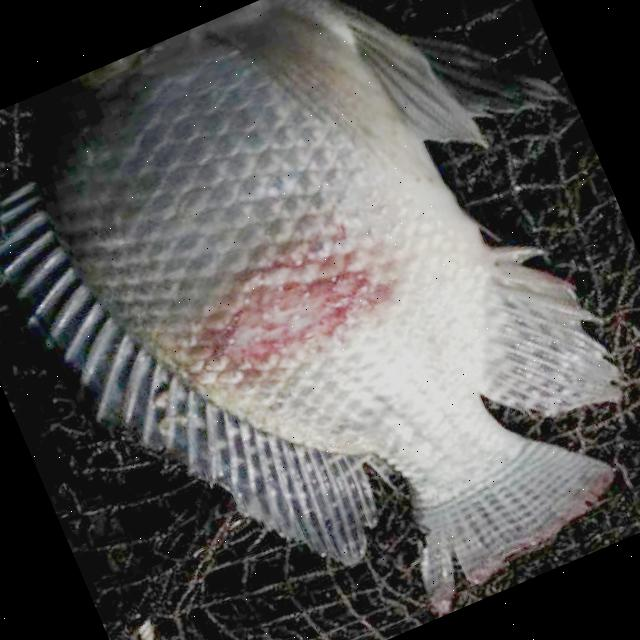Tilapia Lake Virus -TiLV-: (0, 0, 617, 609)
